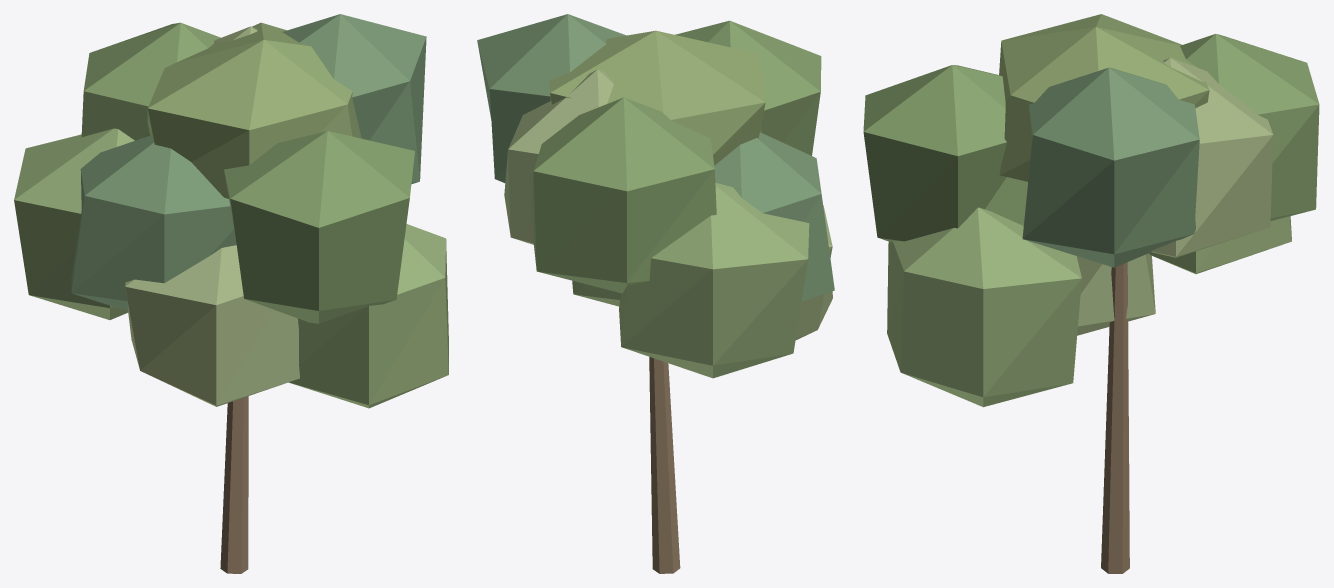
The picture shows the model from 3 angles, left to right: view 1: azimuth 30°, elevation 25°; view 2: azimuth 150°, elevation 25°; view 3: azimuth 270°, elevation 25°; orthographic projection. The views are drawn at different scales.
Size of the model in its own units: 8.04 by 10.96 by 8.19.
